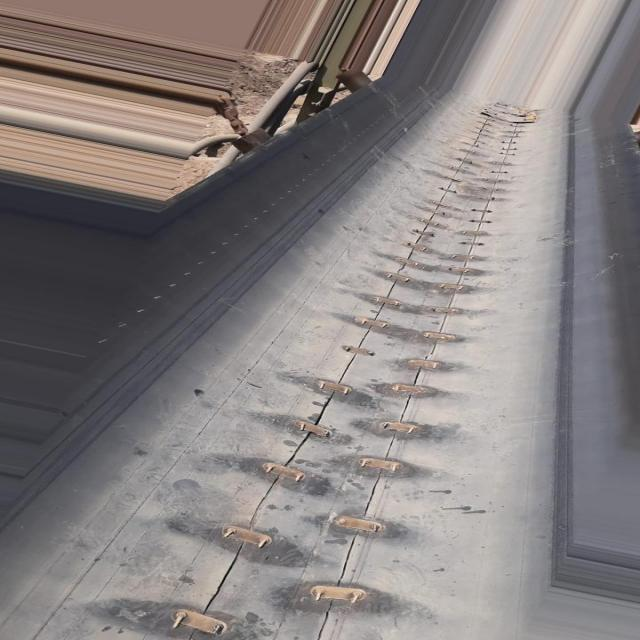Roller: (227, 126, 287, 153), (341, 72, 378, 91)
patch work: (101, 95, 582, 640)
